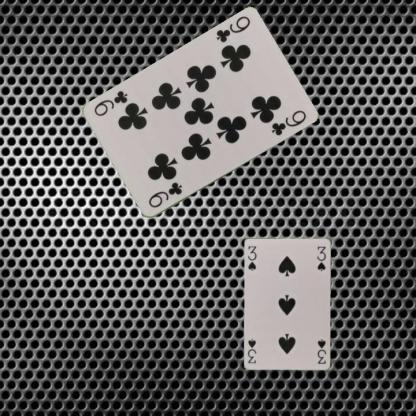3s: (246, 243, 258, 272), (315, 337, 327, 365)
9c: (213, 14, 252, 44), (146, 180, 184, 210)
